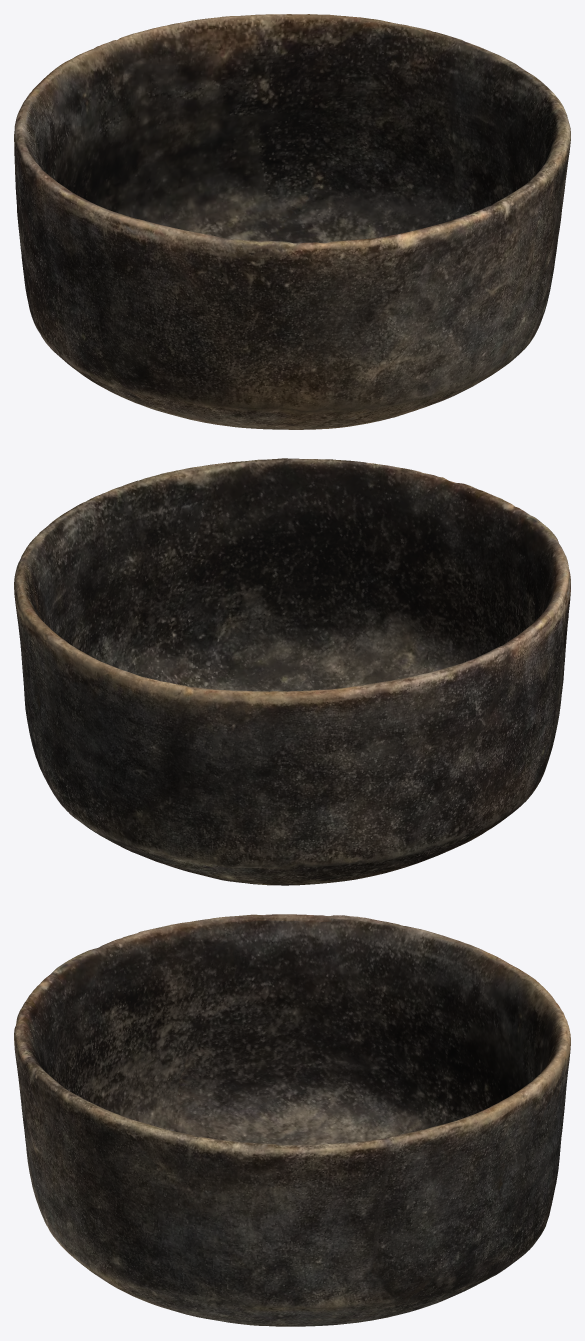
The picture shows the model from 3 angles, top to bottom: view 1: azimuth 30°, elevation 25°; view 2: azimuth 150°, elevation 25°; view 3: azimuth 270°, elevation 25°; orthographic projection.
Visible parts, largest first — view 1: Mesh_0.012; view 2: Mesh_0.012; view 3: Mesh_0.012.
Boxes of the visible parts, left/top/right/bottom form: Mesh_0.012: left=14, top=14, right=570, bottom=429; Mesh_0.012: left=14, top=458, right=570, bottom=885; Mesh_0.012: left=14, top=914, right=570, bottom=1326.
Size of the model in its own units: 0.1804 by 0.0939 by 0.1829.
1 material, 1 textured.
